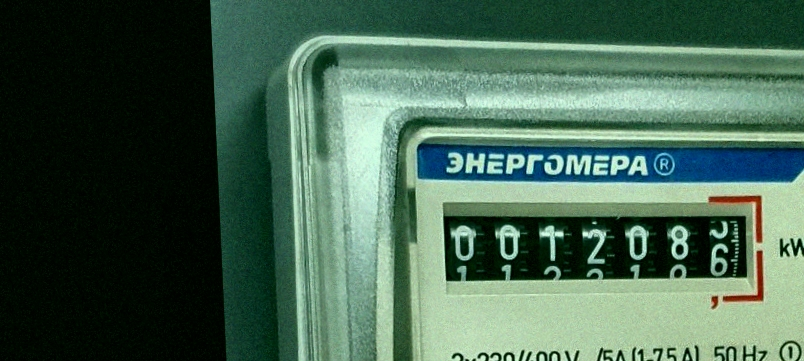0: (493, 220, 523, 263), (450, 220, 476, 263), (624, 222, 649, 262)
1: (538, 221, 562, 263)
2: (581, 226, 608, 266)
6: (704, 240, 730, 277)
8: (666, 221, 690, 262)
screen: (431, 174, 776, 329)
